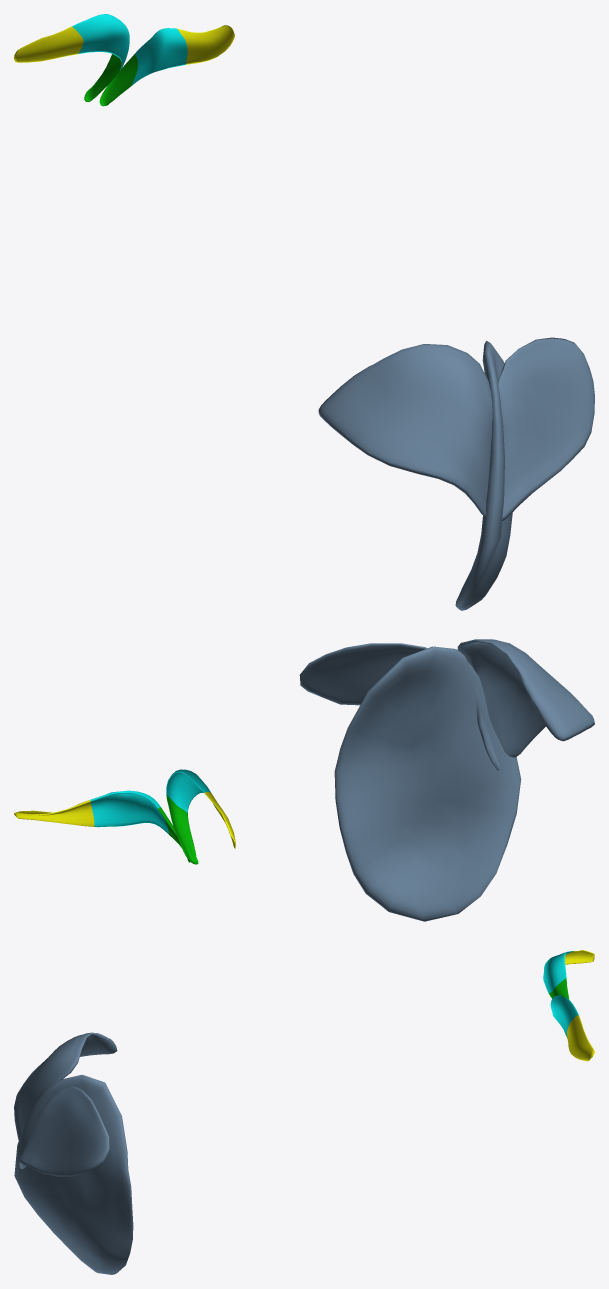
File: Cartilage.fbx
3 views of the same model, one above another, from view 1: azimuth 30°, elevation 25°; view 2: azimuth 150°, elevation 25°; view 3: azimuth 270°, elevation 25° (orthographic). The views are drawn at different scales.
Visible parts, largest first — view 1: OtherCartilage_Base, LeftCartilage_Base, RightNostril_Base; view 2: OtherCartilage_Base, LeftCartilage_Base, RightNostril_Base; view 3: OtherCartilage_Base, LeftCartilage_Base, RightNostril_Base.
Boxes of the visible parts, x1=… form: OtherCartilage_Base: x1=318, y1=337, x2=594, y2=610; LeftCartilage_Base: x1=99, y1=25, x2=234, y2=106; RightNostril_Base: x1=14, y1=14, x2=129, y2=101; OtherCartilage_Base: x1=299, y1=639, x2=594, y2=921; LeftCartilage_Base: x1=14, y1=790, x2=189, y2=862; RightNostril_Base: x1=166, y1=769, x2=235, y2=864; OtherCartilage_Base: x1=14, y1=1032, x2=133, y2=1274; LeftCartilage_Base: x1=550, y1=995, x2=594, y2=1061; RightNostril_Base: x1=543, y1=950, x2=594, y2=999.
Bounding box in the file's own units: 80.06 × 110 × 197.
